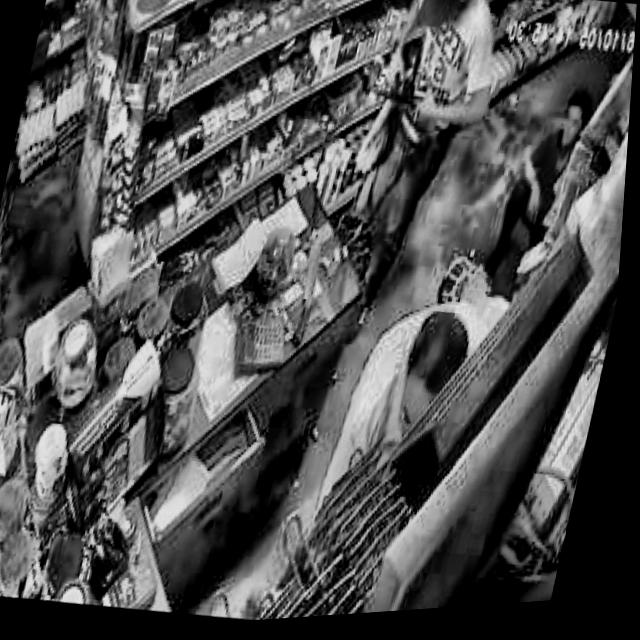robbery: (319, 0, 520, 341)
